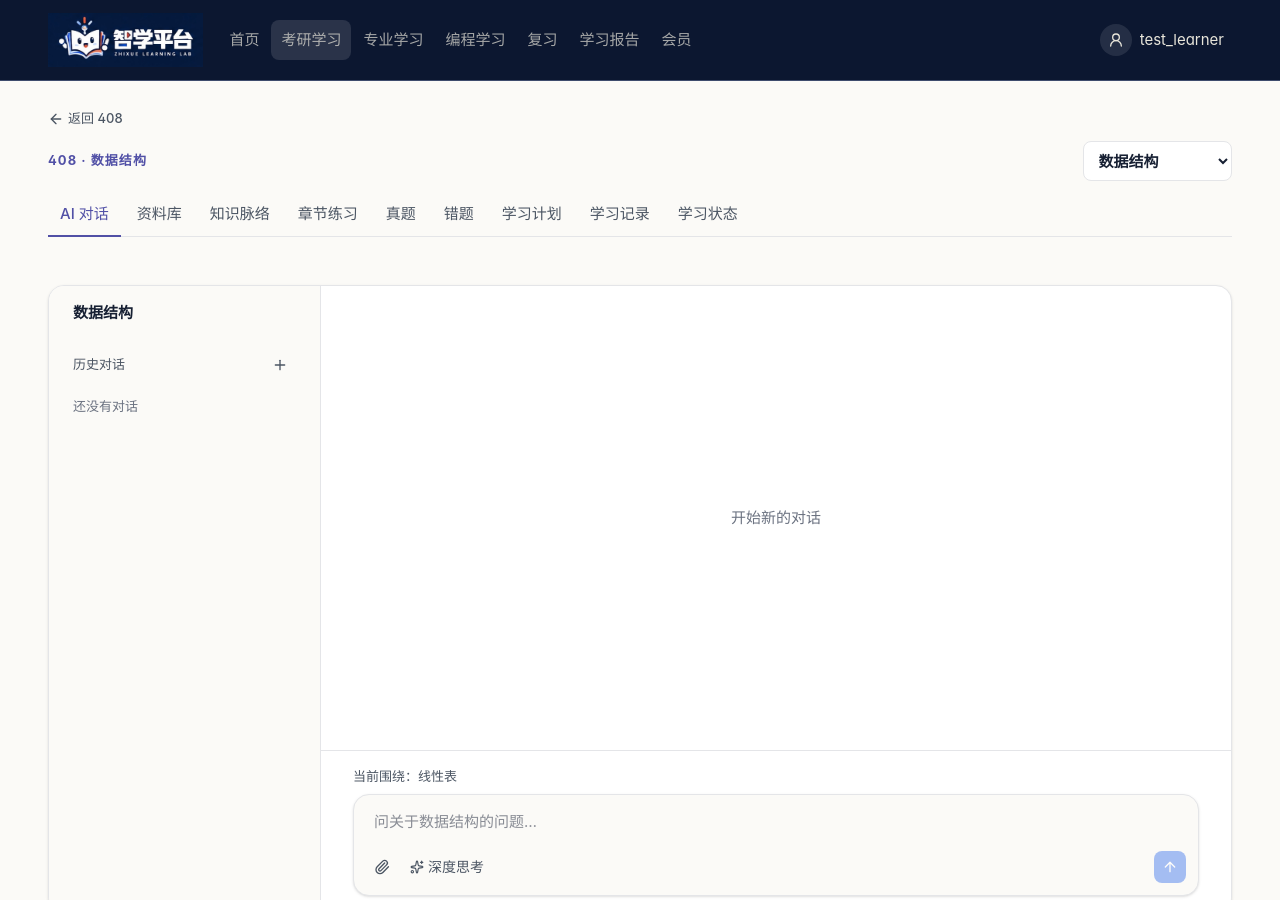
Test: the module switcher moves between the four papers without leaving the tool › stays in AI 对话 but drops the knowledge point when the paper changes
The width and height of the screenshot is (1280, 900).
Expected: the link "AI 对话" is shown, [48,193,121,237]
Expected: the text "当前围绕：线性表" is shown, [353,768,457,784]
Select "操作系统" in the dropdown named "切换 408 学习科目" at (1158, 161), box [1083,141,1232,181]
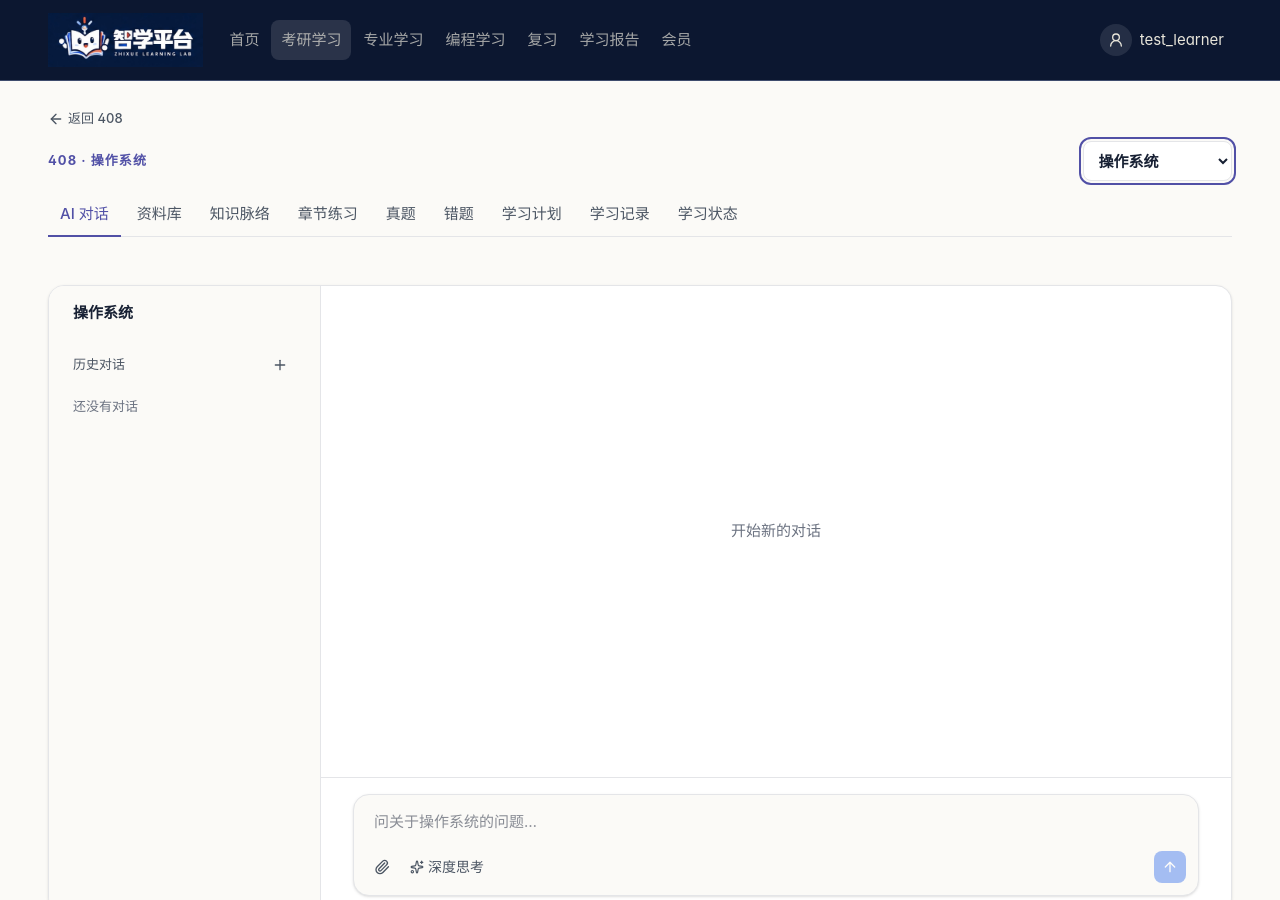
Expected: the text box with placeholder "问关于操作系统的问题…" is shown, [362,803,1190,851]
Expected: the text "当前围绕" is gone
